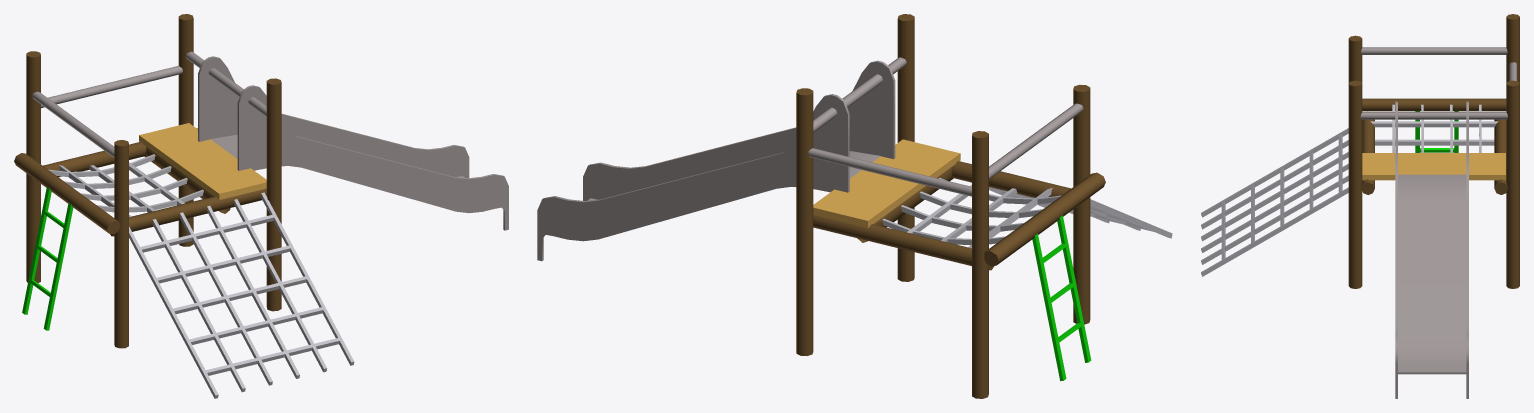
The model's file is GORCA N.fbx.
The picture shows the model from 3 angles, left to right: view 1: azimuth 30°, elevation 25°; view 2: azimuth 150°, elevation 25°; view 3: azimuth 270°, elevation 25°; orthographic projection. The views are drawn at different scales.
Parts seen in each view (by area): view 1: Плоскость.012; view 2: Плоскость.012; view 3: Плоскость.012.
Boxes of the visible parts, box(x1,y1,x2,y2) form: Плоскость.012: box(14, 14, 508, 398); Плоскость.012: box(537, 14, 1172, 398); Плоскость.012: box(1201, 14, 1519, 398).
Size of the model in its own units: 217 by 104 by 148.
